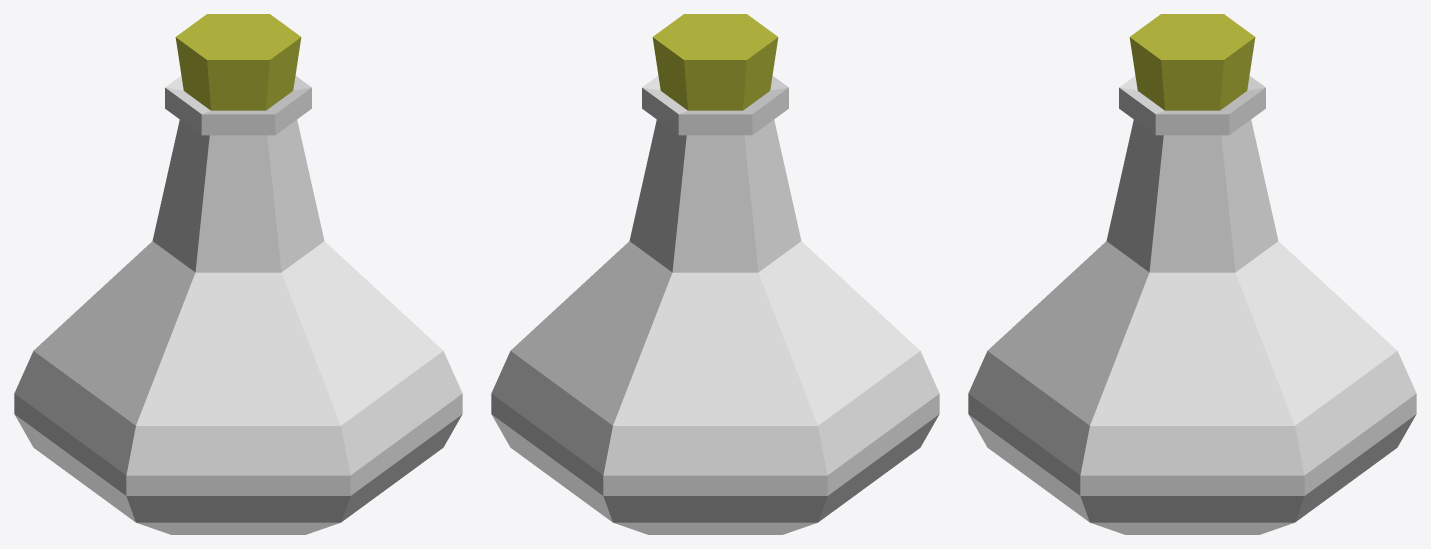
File: y_sblood.fbx
3 renders of one model, left to right at view 1: azimuth 30°, elevation 25°; view 2: azimuth 150°, elevation 25°; view 3: azimuth 270°, elevation 25°, orthographic.
Parts seen in each view (by area): view 1: bottle, cap; view 2: bottle, cap; view 3: bottle, cap.
Part boxes in pixels (box(x1,y1,x2,y2)): bottle: box(14, 76, 462, 534); cap: box(175, 14, 301, 110); bottle: box(491, 76, 939, 534); cap: box(652, 14, 778, 110); bottle: box(968, 76, 1416, 534); cap: box(1129, 14, 1255, 110).
Size of the model in its own units: 189 by 242 by 219.
